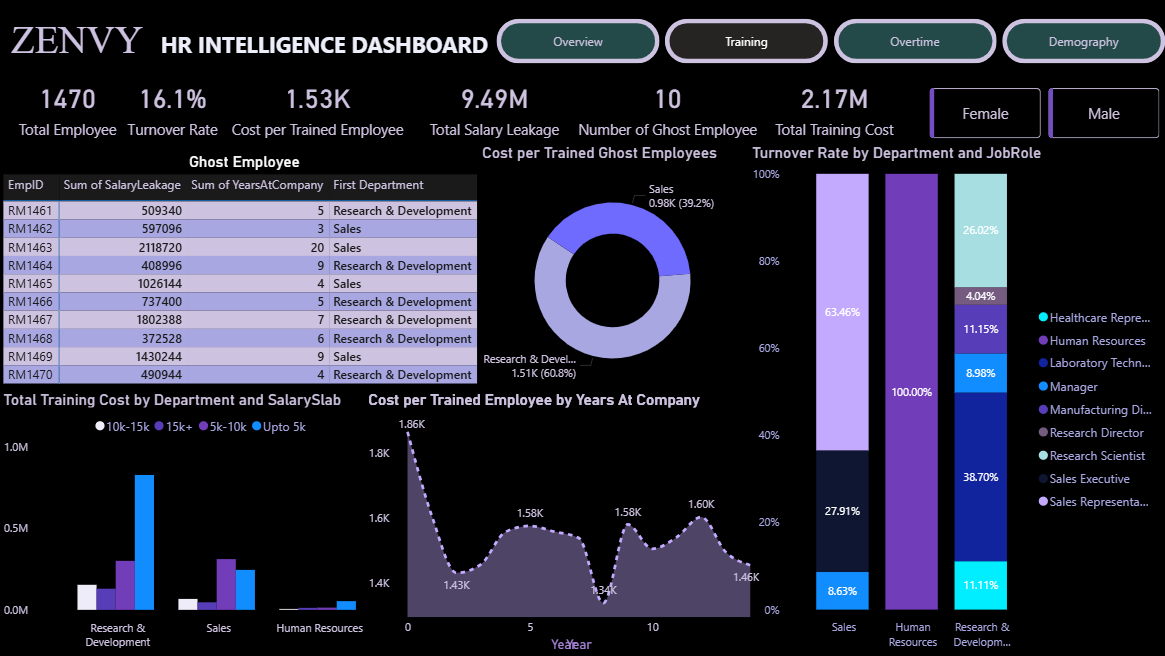

What the dashboard file says about the page in this screenshot:
{"tool":"powerbi","page":{"name":"Training","canvas":[1280,720],"ordinal":1},"visuals":[{"type":"card","fields":{"Values":["_Measures.Cost per Trained Employee"]},"box":[245.6,56.3,208.6,122.1],"z":0},{"type":"card","fields":{"Values":["_Measures.Total Training Cost"]},"box":[808.2,56.4,218.2,122.1],"z":1000},{"type":"card","fields":{"Values":["CountNonNull(ghost_employees_salary_leakage.EmpID)"]},"box":[628.5,56.3,211.3,122.1],"z":2000},{"type":"card","fields":{"Values":["Sum(ghost_employees_salary_leakage.SalaryLeakage)"]},"box":[454.2,63.1,179.8,109.8],"z":3000},{"type":"areaChart","title":"Cost per Trained Employee by Years At  Company","fields":{"Y":["_Measures.Cost per Trained Employee"],"Category":["clean HR data.YearsAtCompany"]},"box":[400.7,428.1,439.1,292.3],"z":4000},{"type":"hundredPercentStackedColumnChart","fields":{"Category":["clean HR data.Department"],"Series":["clean HR data.JobRole"],"Y":["_Measures.Turnover Rate"]},"box":[822,157.8,458.3,562.6],"z":5000},{"type":"advancedSlicerVisual","fields":{"Values":["clean HR data.Gender"]},"box":[1016.8,91.9,263.5,65.9],"z":6000},{"type":"textbox","box":[8.2,13.7,558.5,63.1],"z":7000},{"type":"card","fields":{"Values":["_Measures.Turnover Rate"]},"box":[111.1,67.2,159.2,100.2],"z":8000},{"type":"pivotTable","title":"Ghost Employee","fields":{"Rows":["ghost_employees_salary_leakage.EmpID"],"Values":["Sum(ghost_employees_salary_leakage.SalaryLeakage)","Sum(ghost_employees_salary_leakage.YearsAtCompany)","Min(ghost_employees_salary_leakage.Department)"]},"box":[0,167.4,539.3,260.7],"z":9000},{"type":"donutChart","title":"Cost per Trained Ghost Employees","fields":{"Y":["_Measures.Cost per Trained Employee"],"Category":["ghost_employees_salary_leakage.Department"]},"box":[525.6,157.8,296.4,281.3],"z":11000},{"type":"card","fields":{"Values":["_Measures.Total Employee"]},"box":[0,56.4,150.9,122.1],"z":12000},{"type":"clusteredColumnChart","fields":{"Y":["_Measures.Total Training Cost"],"Category":["clean HR data.Department"],"Series":["clean HR data.SalarySlab"]},"box":[0,427.7,446,292.3],"z":13000},{"type":"pageNavigator","box":[545.9,20.6,734.1,49.4],"z":14000}]}

Visuals, with their boxes in screenshot pixels (x1, y1, x2, y2), scaled from the page's 1280x720 canvas onto the 1165x656 screenshot:
card - _Measures.Cost per Trained Employee: 224, 51, 413, 163
card - _Measures.Total Training Cost: 736, 51, 934, 163
card - CountNonNull(ghost_employees_salary_leakage.EmpID): 572, 51, 764, 163
card - Sum(ghost_employees_salary_leakage.SalaryLeakage): 413, 57, 577, 158
"Cost per Trained Employee by Years At  Company" areaChart: 365, 390, 764, 655
hundredPercentStackedColumnChart - clean HR data.Department x clean HR data.JobRole: 748, 144, 1164, 655
advancedSlicerVisual - clean HR data.Gender: 925, 84, 1164, 144
textbox: 7, 12, 516, 70
card - _Measures.Turnover Rate: 101, 61, 246, 153
"Ghost Employee" pivotTable: 0, 153, 491, 390
"Cost per Trained Ghost Employees" donutChart: 478, 144, 748, 400
card - _Measures.Total Employee: 0, 51, 137, 163
clusteredColumnChart - _Measures.Total Training Cost x clean HR data.Department: 0, 390, 406, 655
pageNavigator: 497, 19, 1164, 64
